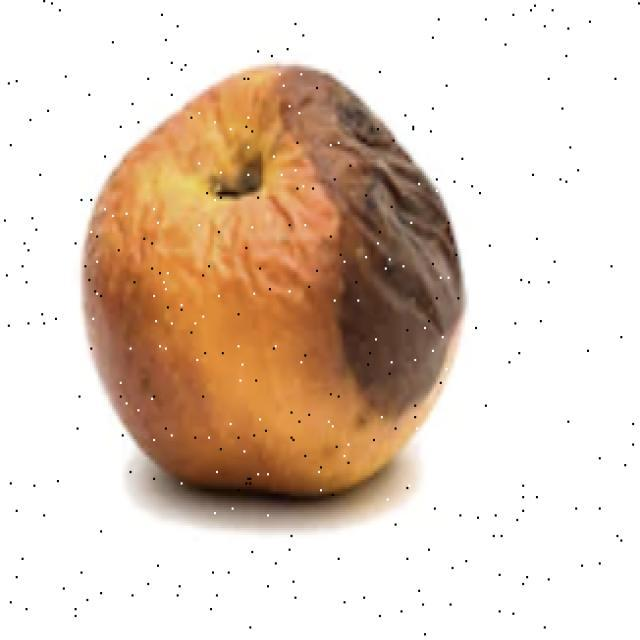Rotten: (93, 70, 467, 510)
